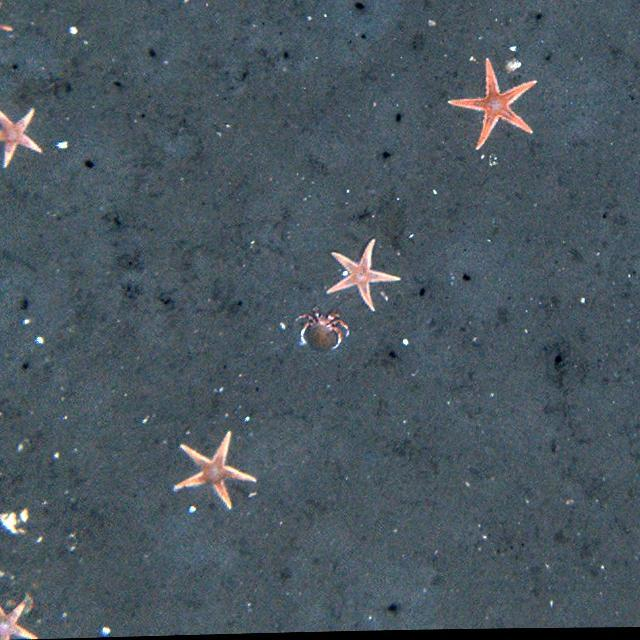crab: (302, 306, 347, 353)
